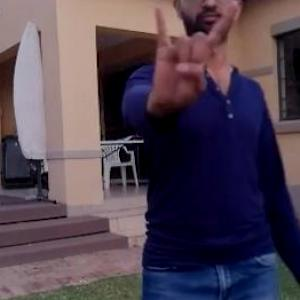takeoff-hand: (146, 0, 240, 120)
